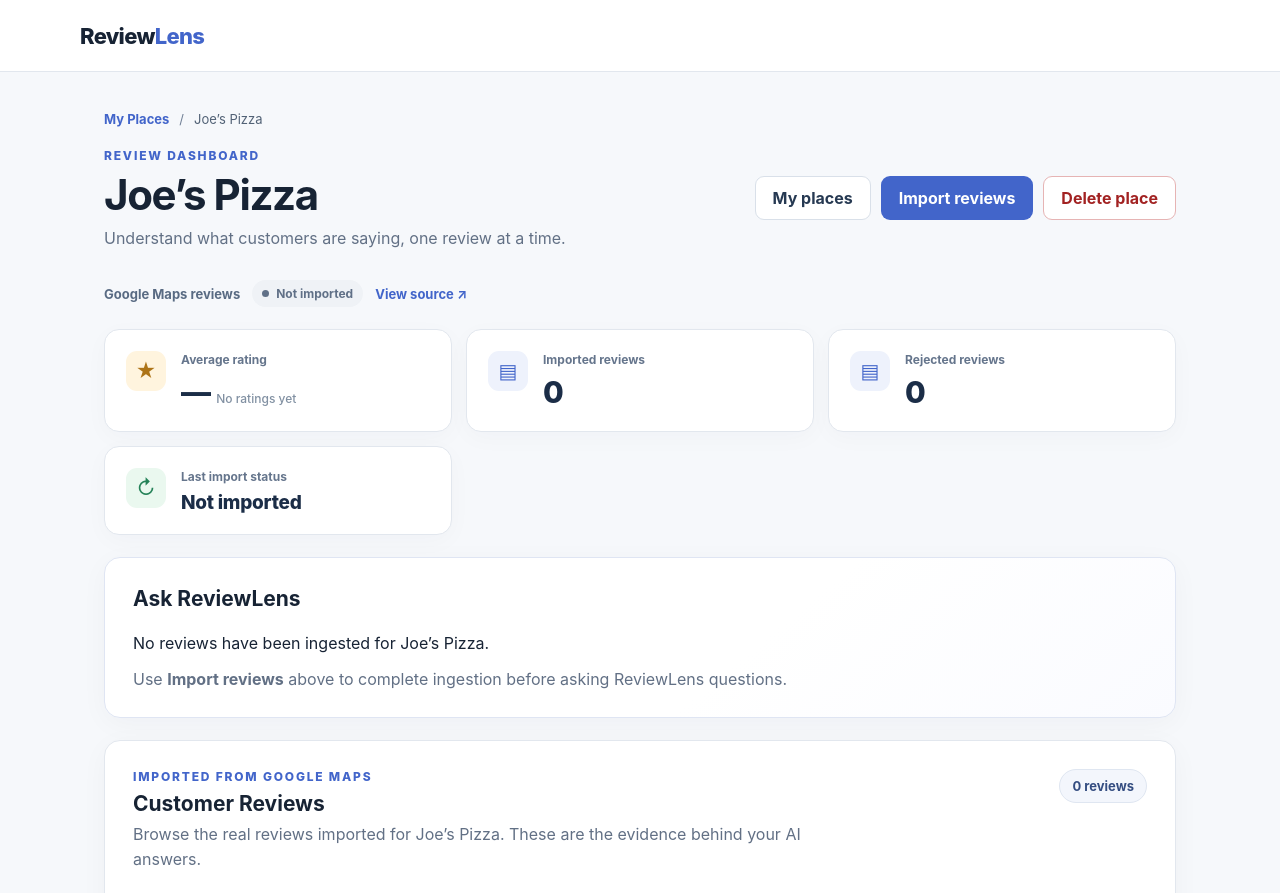
Test: App › shows an error when review ingestion fails
This screenshot has width=1280, height=893.
Click the button "Import reviews" at x=957, y=198, box [881,176,1033,220]
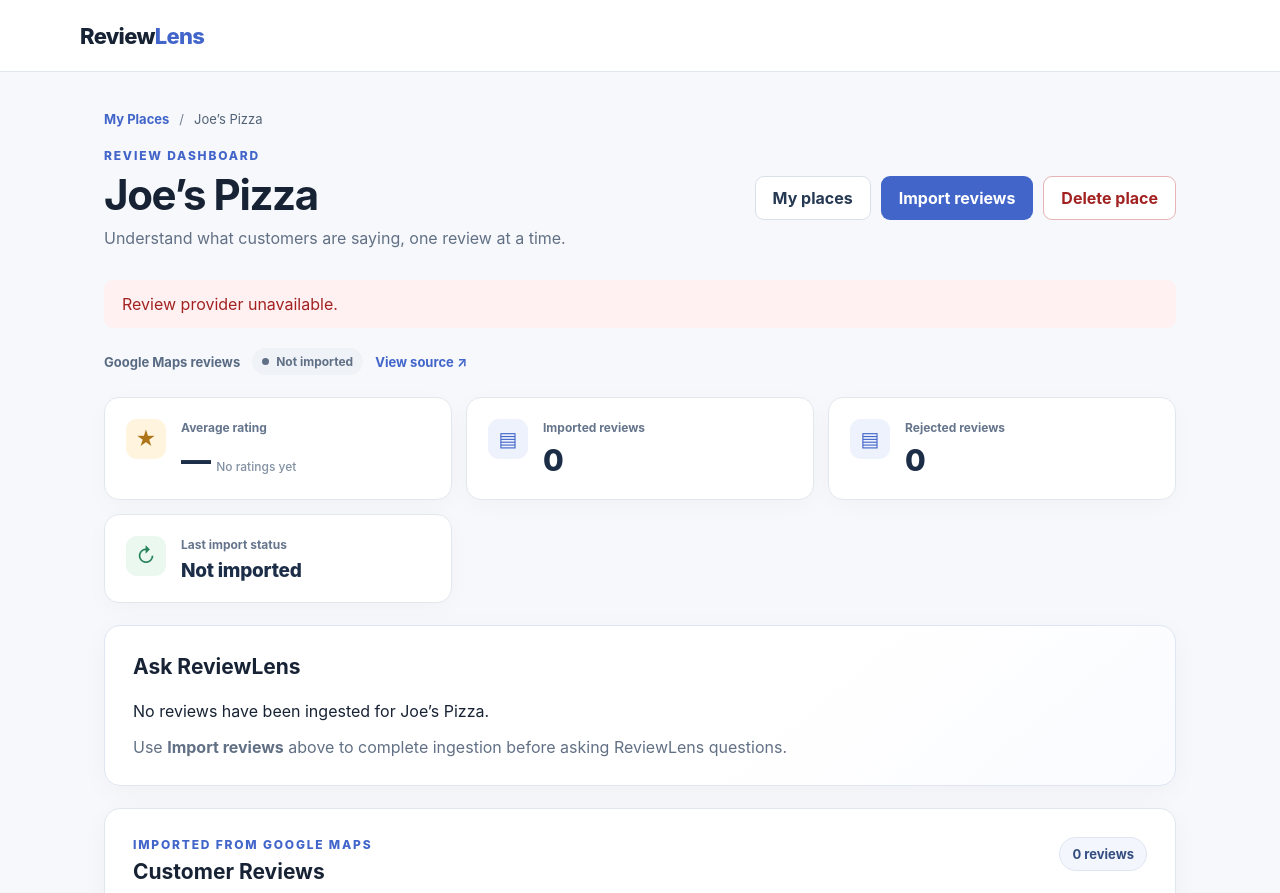
Expected: the element named "ReviewLens unavailable" is shown, [104,625,1176,786]
Expected: the message reads "Review provider unavailable.", [122,294,338,314]
